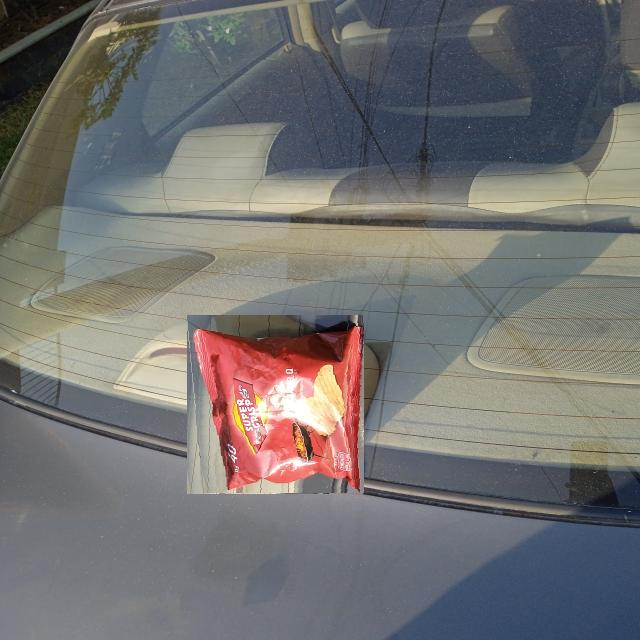Plastic: (186, 315, 364, 493)
